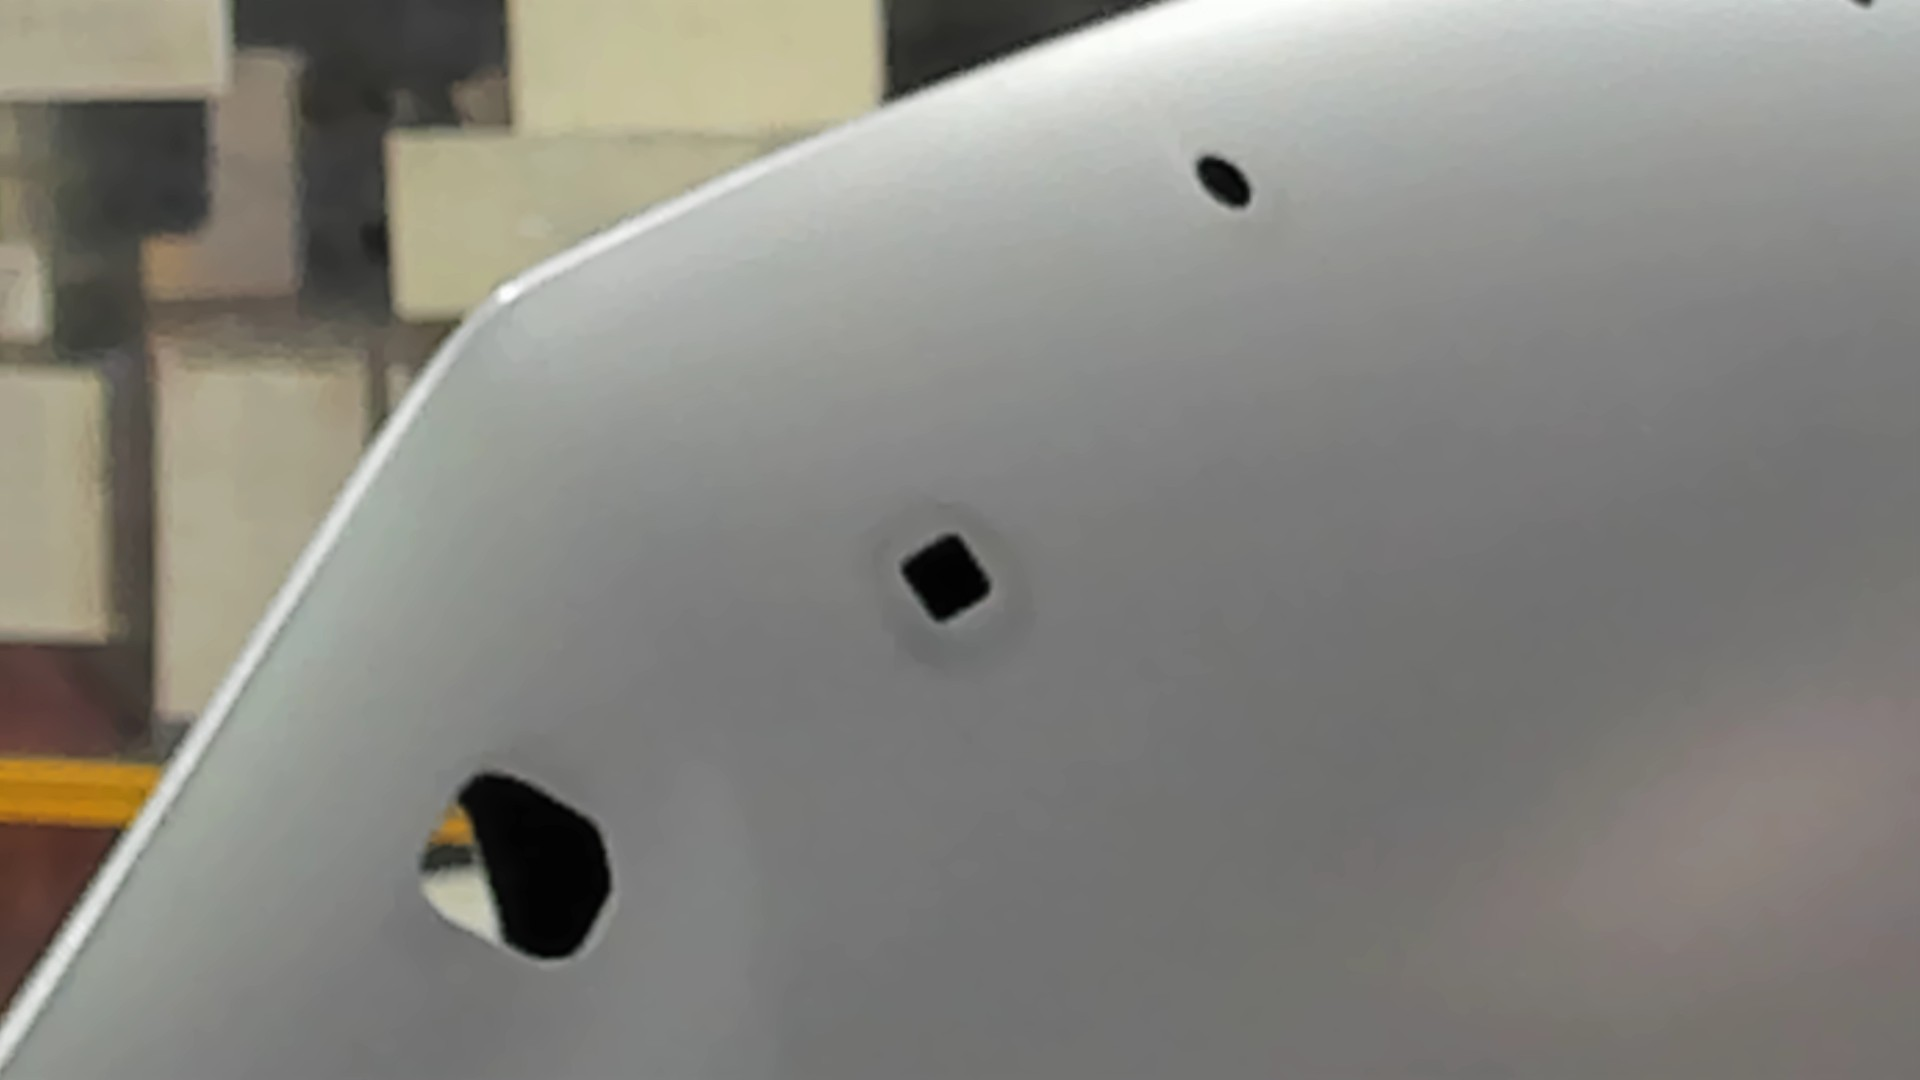chico: (1192, 149, 1257, 212)
grande: (409, 764, 622, 969)
mediano: (897, 529, 997, 628)
